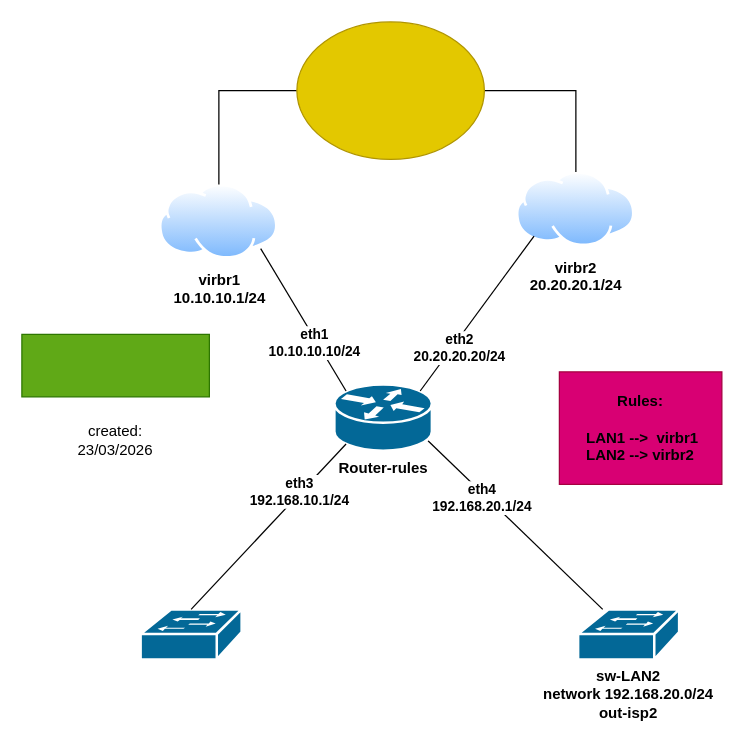
The diagram is 744 pixels wide and 744 high, and some of its shapes have lost their labels. The centre of each missing label's shape, as x and y in pixels:
"cloud server example incus-container default network 10.47.8.1/24" goes at [390,90].
"Rules-basic" goes at [115,365].
"sw-LAN1 network 192.168.10.0/24 out-isp1" goes at [190,634].
